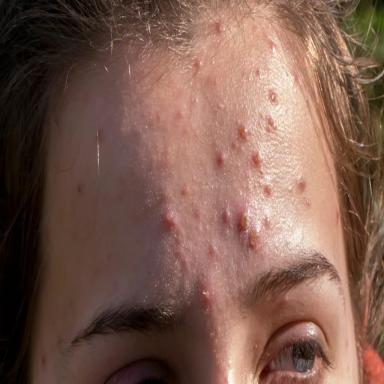acne: (199, 282, 210, 307), (248, 228, 259, 248), (238, 212, 249, 231), (265, 116, 277, 132), (239, 124, 251, 139), (165, 211, 175, 228), (269, 89, 278, 106), (297, 175, 306, 192), (193, 206, 203, 220), (251, 152, 260, 167), (217, 20, 226, 35), (267, 37, 275, 53), (193, 57, 202, 69), (223, 208, 230, 223), (264, 216, 271, 230), (217, 154, 224, 166), (181, 183, 187, 196), (265, 186, 271, 195), (209, 246, 215, 254), (306, 199, 311, 204)
